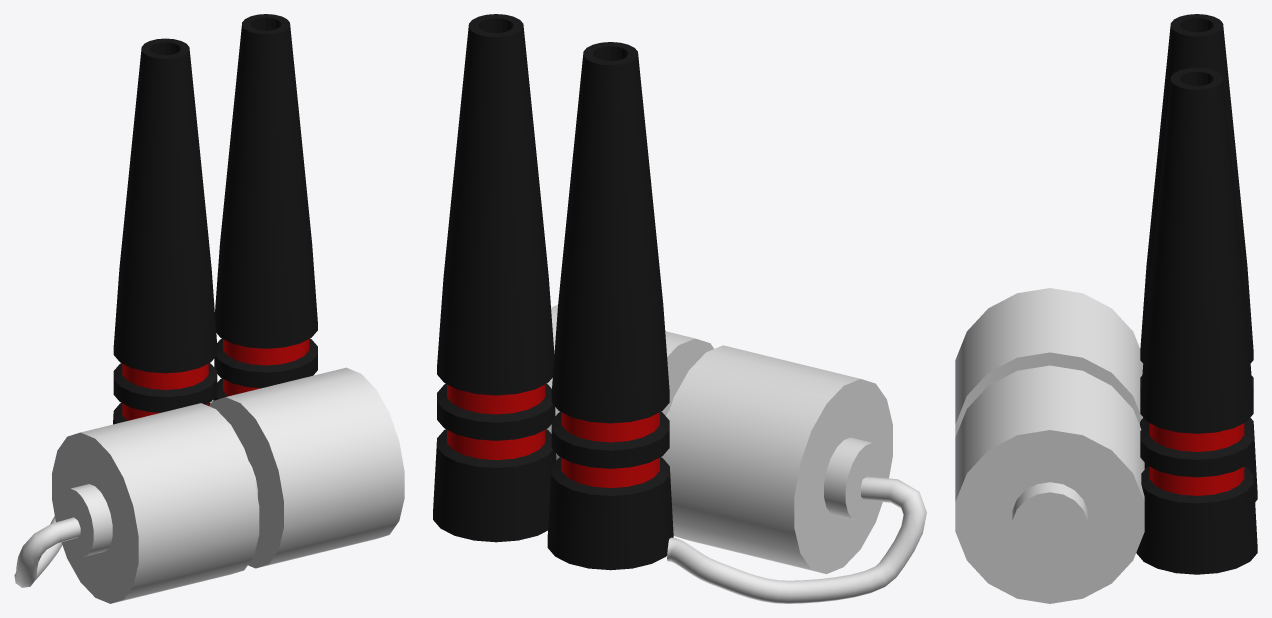
Rendered from Generator v-slice.FBX.
The picture shows the model from 3 angles, left to right: view 1: azimuth 30°, elevation 25°; view 2: azimuth 150°, elevation 25°; view 3: azimuth 270°, elevation 25°; orthographic projection. The views are drawn at different scales.
Parts seen in each view (by area): view 1: Cylinder002, Cylinder001, Cylinder003, Line001, Object001, Object002; view 2: Cylinder001, Cylinder003, Cylinder002, Line001, Object001, Object002; view 3: Cylinder002, Cylinder003, Cylinder001, Object002.
Boxes of the visible parts, bbox=[...] form: Cylinder002: bbox=[52, 367, 404, 603]; Cylinder001: bbox=[113, 38, 217, 424]; Cylinder003: bbox=[213, 14, 317, 400]; Line001: bbox=[14, 516, 80, 587]; Object001: bbox=[122, 363, 208, 420]; Object002: bbox=[223, 339, 309, 396]; Cylinder001: bbox=[547, 42, 673, 570]; Cylinder003: bbox=[433, 14, 556, 542]; Cylinder002: bbox=[546, 305, 892, 573]; Line001: bbox=[667, 476, 926, 603]; Object001: bbox=[561, 412, 659, 487]; Object002: bbox=[447, 384, 545, 459]; Cylinder002: bbox=[955, 288, 1144, 603]; Cylinder003: bbox=[1136, 67, 1257, 574]; Cylinder001: bbox=[1140, 14, 1257, 501]; Object002: bbox=[1149, 423, 1244, 495].
Size of the model in its own units: 118 by 147 by 78.64.
